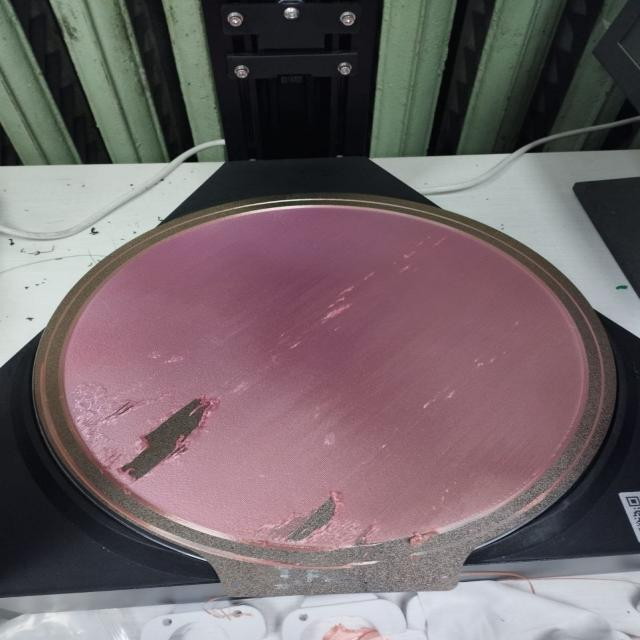blobs: (401, 531, 448, 551), (164, 353, 186, 364)
